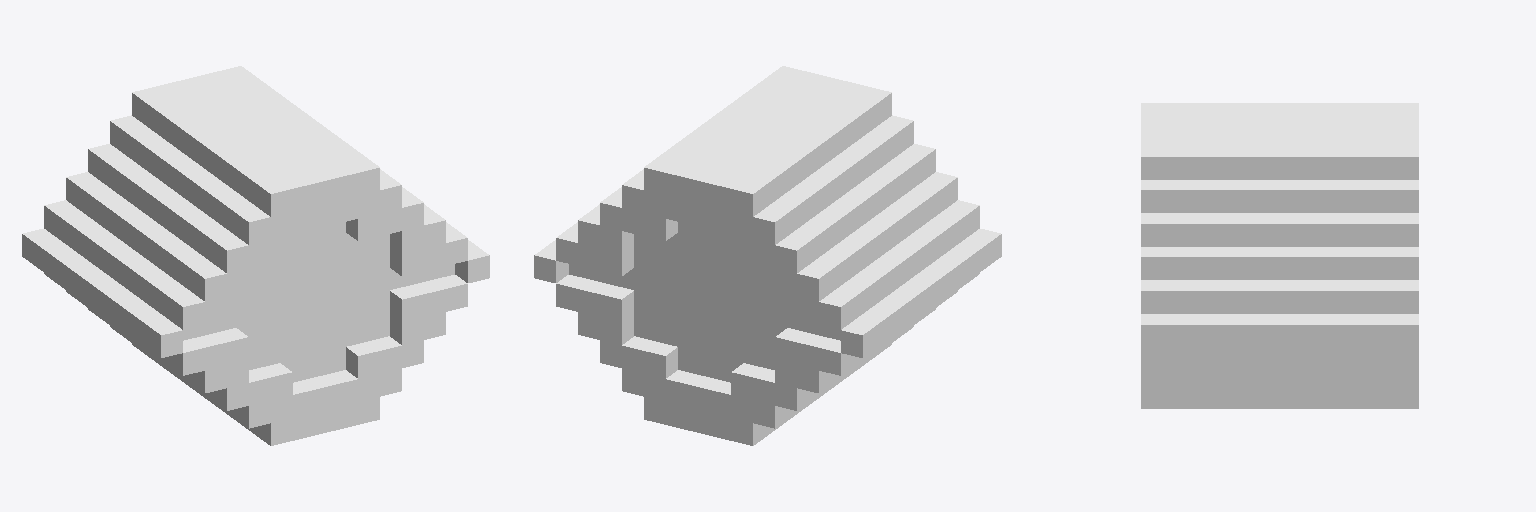
File: enemy04.obj
3 renders of one model, left to right at view 1: azimuth 30°, elevation 25°; view 2: azimuth 150°, elevation 25°; view 3: azimuth 270°, elevation 25°, orthographic.
Bounding box in the file's own units: 15 × 11 × 11.